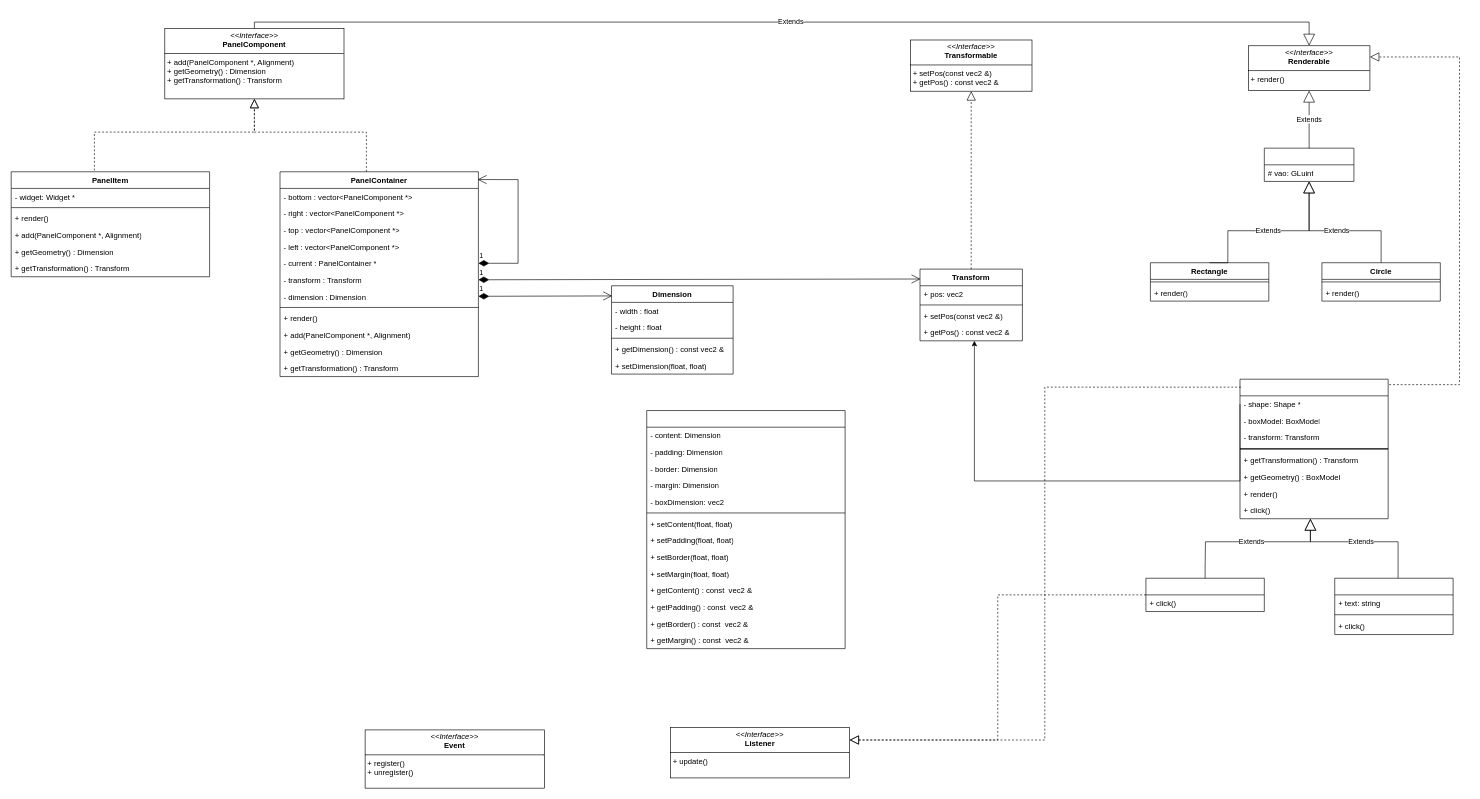
Image size: 1480x799. Some labels were removed from this diagram. Each missing label, with the box of its shape:
BoxModel: (646, 410, 845, 649)
Button: (1145, 578, 1264, 612)
Label: (1334, 578, 1453, 635)
Shape: (1264, 148, 1354, 181)
Widget: (1239, 379, 1388, 519)
